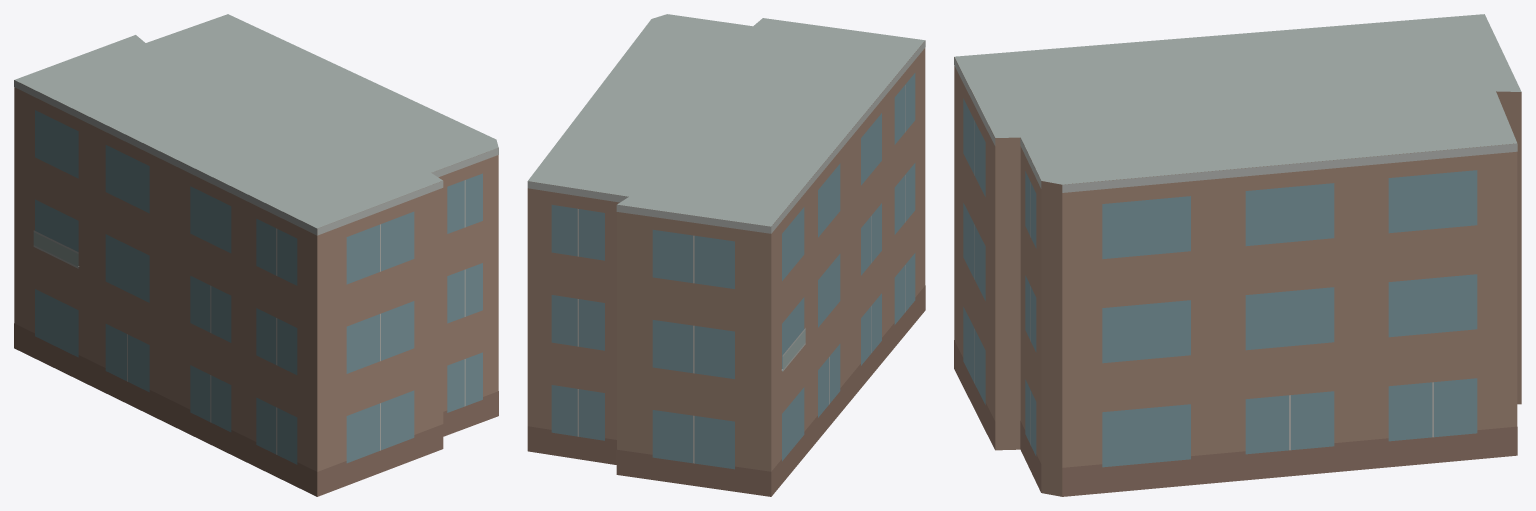
Rendered from survey-upis-32611987.glb.
3 views of the same model, side by side, from view 1: azimuth 30°, elevation 25°; view 2: azimuth 150°, elevation 25°; view 3: azimuth 270°, elevation 25° (orthographic). The views are drawn at different scales.
Visible parts, largest first — view 1: survey-upis-32611987.tmp; view 2: survey-upis-32611987.tmp; view 3: survey-upis-32611987.tmp.
Boxes of the visible parts, x1,y1,x2,y2 form: survey-upis-32611987.tmp: (14, 14, 498, 496); survey-upis-32611987.tmp: (527, 14, 925, 496); survey-upis-32611987.tmp: (954, 14, 1521, 496).
Bounding box in the file's own units: 10.74 × 9.15 × 15.09.
